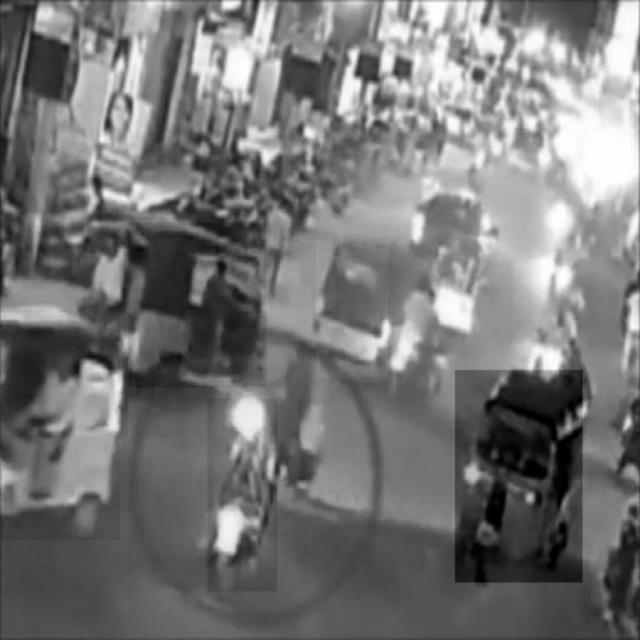vehicle: (1, 310, 121, 540), (455, 370, 583, 584), (129, 223, 266, 388), (208, 399, 278, 591), (317, 241, 389, 378)
